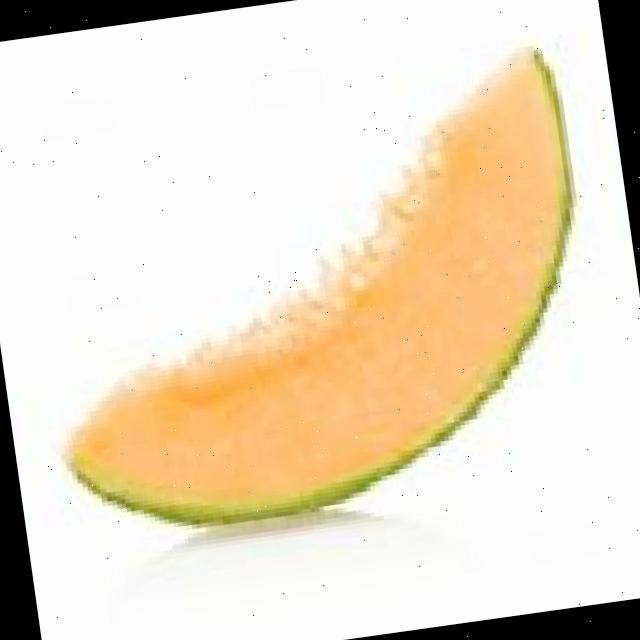Hami Melon: (13, 44, 616, 544)
